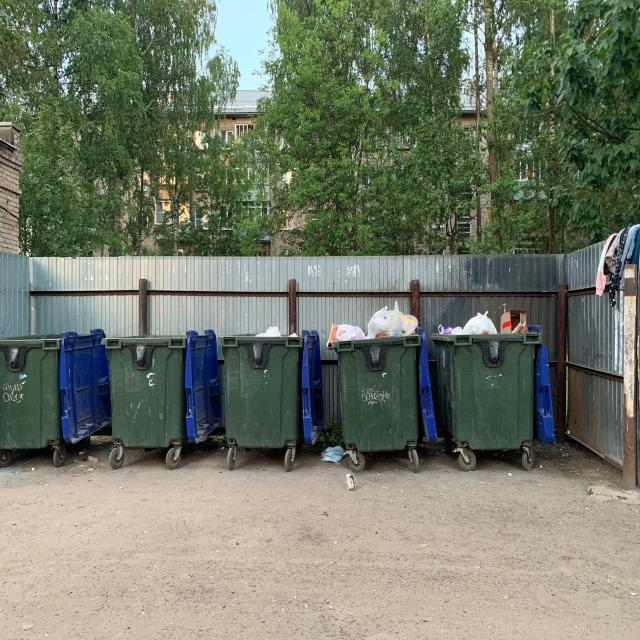bin: (102, 318, 200, 472), (440, 336, 548, 463), (0, 321, 90, 469), (218, 339, 320, 456), (334, 340, 428, 465)
plastic: (325, 292, 423, 339), (440, 296, 532, 335), (254, 315, 299, 337)
